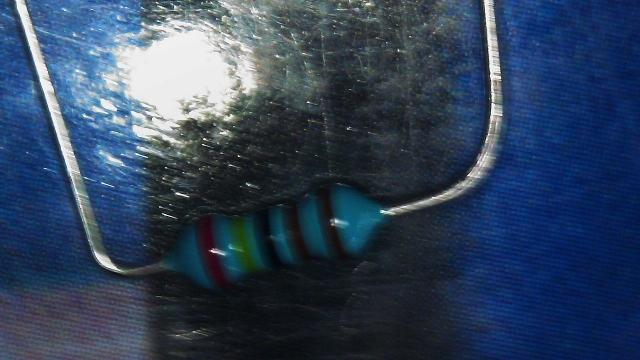black: (256, 208, 284, 267)
brown: (317, 185, 348, 259), (283, 202, 312, 259)
red: (197, 215, 230, 287)
resistor: (166, 147, 398, 306)
yellow: (230, 217, 259, 272)
